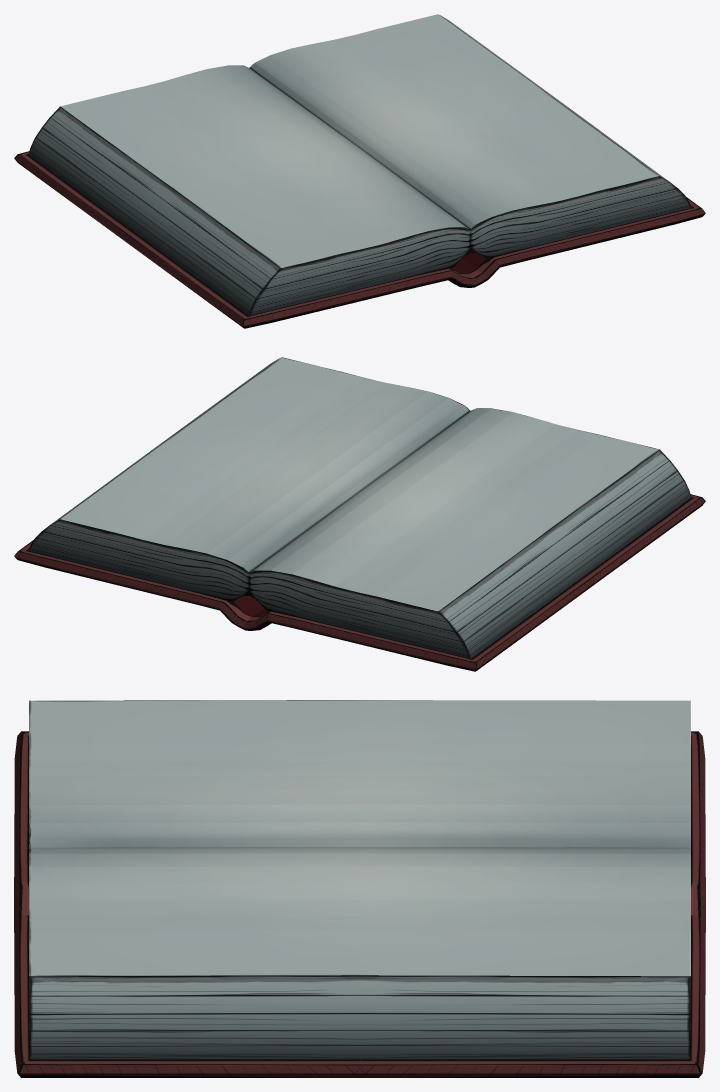
The model's file is Book.fbx.
The picture shows the model from 3 angles, top to bottom: view 1: azimuth 30°, elevation 25°; view 2: azimuth 150°, elevation 25°; view 3: azimuth 270°, elevation 25°; orthographic projection. The views are drawn at different scales.
Visible parts, largest first — view 1: Cube.002, Cube.001; view 2: Cube.002, Cube.001; view 3: Cube.002, Cube.001.
Part boxes in pixels (x1,y1,x2,y2): Cube.002: (28,14,691,315); Cube.001: (14,151,705,328); Cube.002: (28,357,691,658); Cube.001: (14,494,705,671); Cube.002: (29,700,690,1059); Cube.001: (14,731,705,1077).
Bounding box in the file's own units: 794 × 107 × 688.
Materials: 1 (1 with a texture image).
